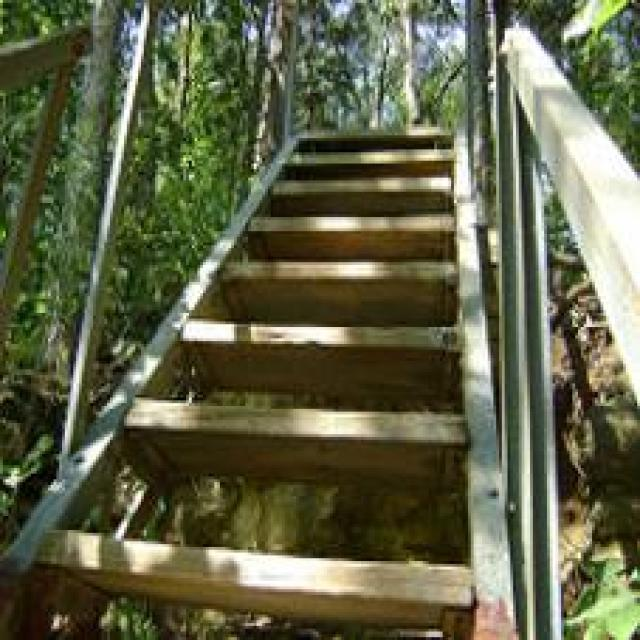stair: (85, 217, 468, 584)
